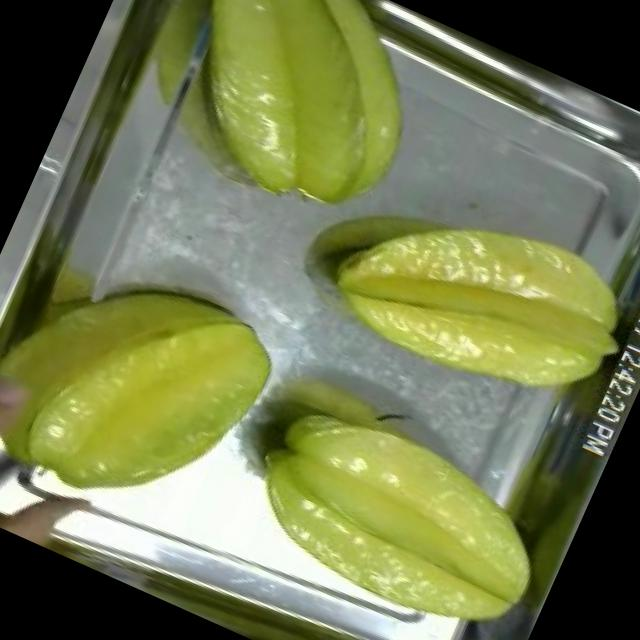fruit: (207, 366, 582, 640), (0, 225, 299, 560), (296, 151, 640, 441), (121, 0, 465, 254)
